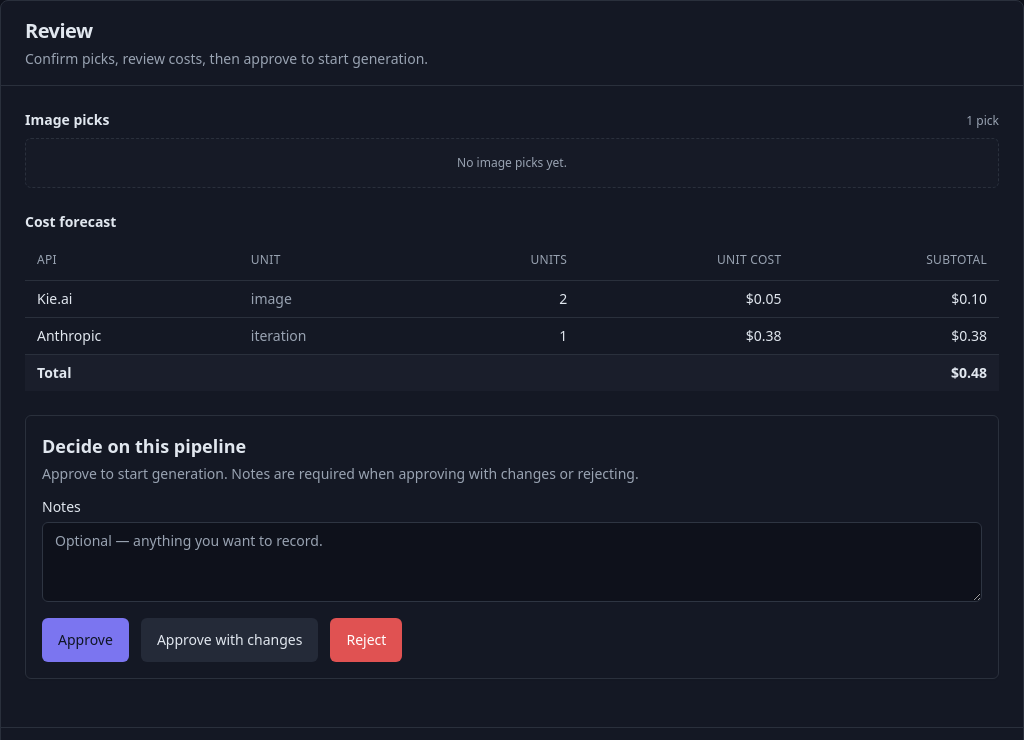
StageReview › surfaces submit errors inline
Step 1. Click the button "Approve" → click(85, 640), box [42,618,129,662]
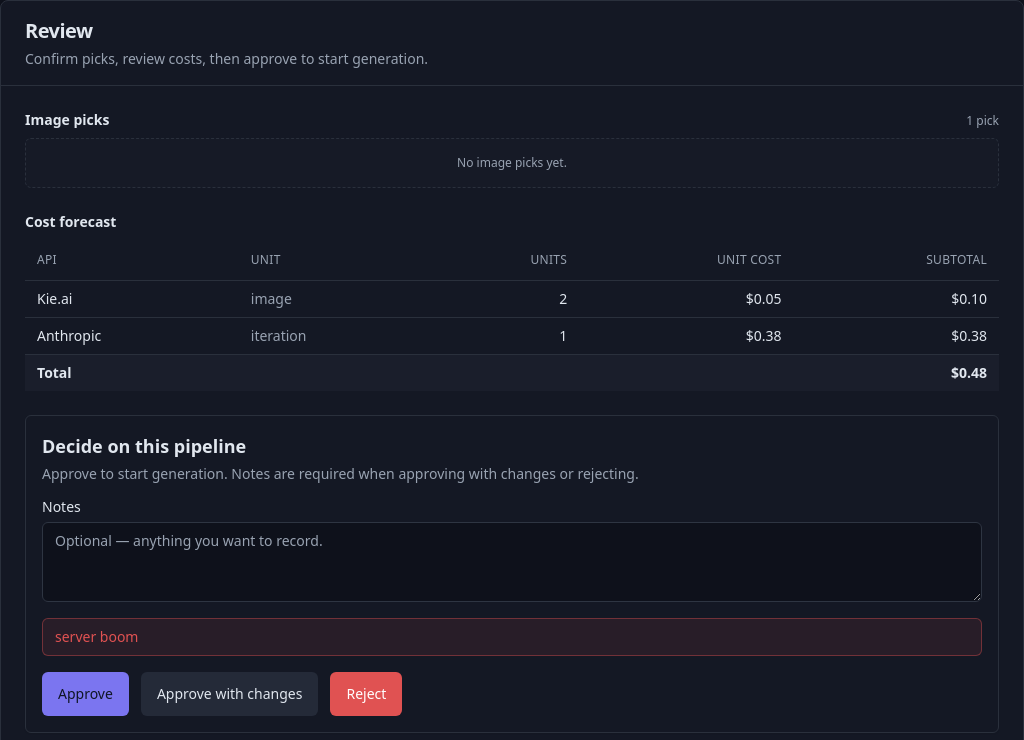
Result: the message reads "server boom" at [55,626,138,646]
